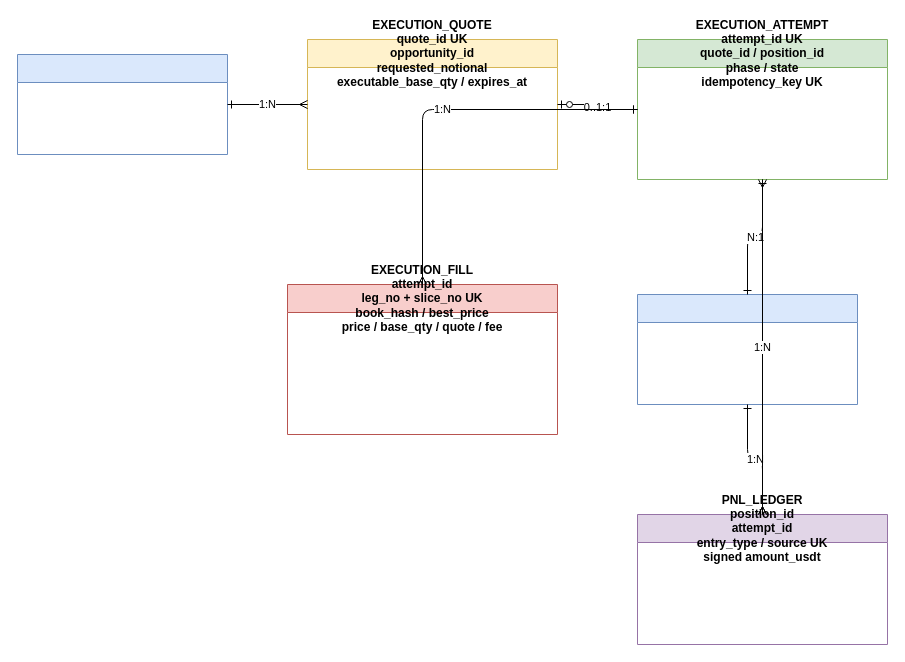
Image size: 905x662. Some labels were removed from this diagram. The centre of each missing label's shape, as x and y in pixels:
"OPPORTUNITY id PK pair / direction / snapshot" goes at [122,104].
"PAPER_POSITION id PK long_qty / short_qty state" goes at [747,349].
